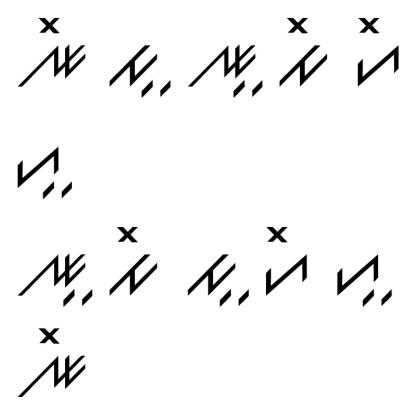hah: (13, 135, 78, 201), (331, 243, 395, 309)
ho: (343, 14, 405, 94), (259, 218, 312, 297)
mbah: (101, 35, 178, 101), (183, 243, 252, 310)
mbo: (275, 13, 332, 90), (106, 222, 161, 300)
ndah: (17, 246, 97, 311), (187, 38, 266, 99)
ndo: (15, 323, 91, 404), (14, 12, 88, 94)
